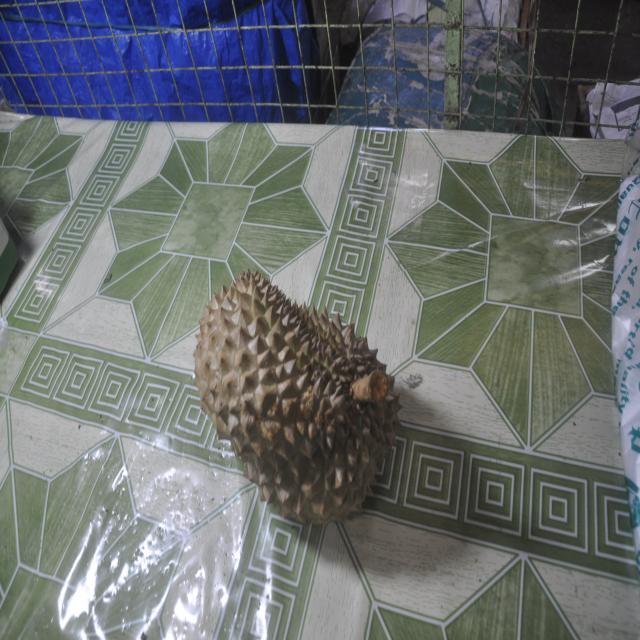mature: (191, 274, 399, 523)
